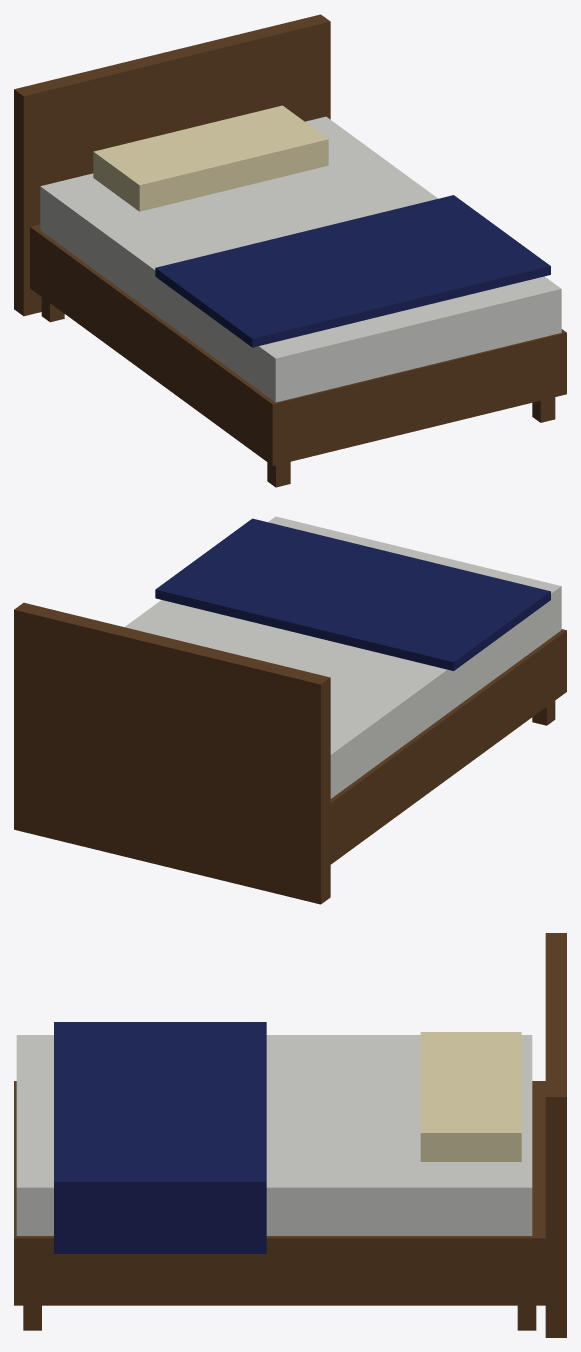
The model's file is prop_bed.879a588ce0ef.glb.
The picture shows the model from 3 angles, top to bottom: view 1: azimuth 30°, elevation 25°; view 2: azimuth 150°, elevation 25°; view 3: azimuth 270°, elevation 25°; orthographic projection. The views are drawn at different scales.
Parts seen in each view (by area): view 1: body; view 2: body; view 3: body.
Part boxes in pixels (left/top/right/bottom): body: left=14, top=14, right=566, bottom=487; body: left=14, top=516, right=566, bottom=904; body: left=14, top=933, right=566, bottom=1337.
Size of the model in its own units: 1.46 by 1 by 2.08.
